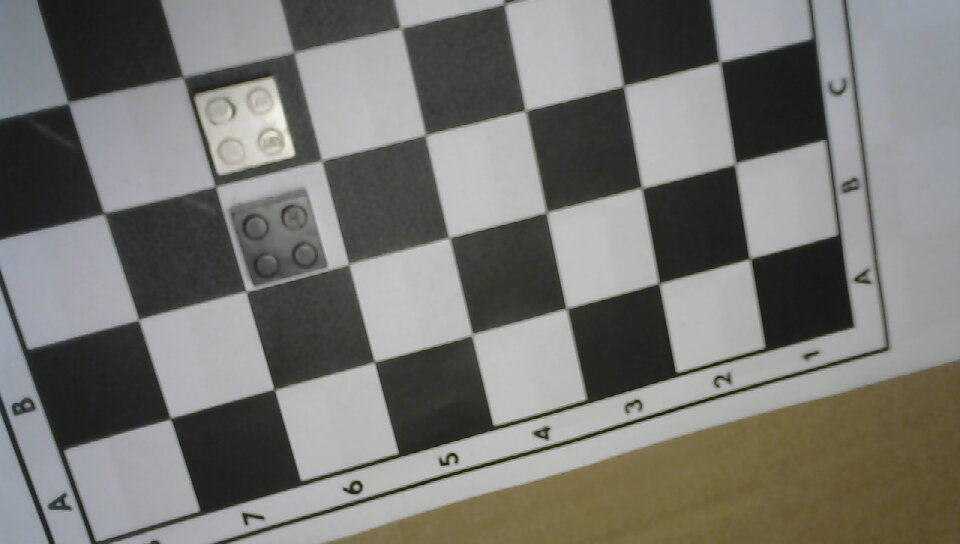wp: (183, 71, 303, 179)
